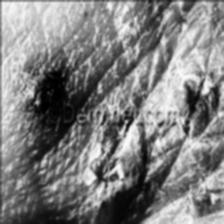Toxin: (80, 124, 148, 202), (26, 67, 64, 111)
